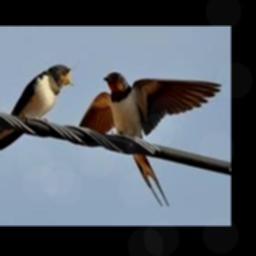Swallow: (77, 72, 221, 206), (0, 66, 73, 155)
